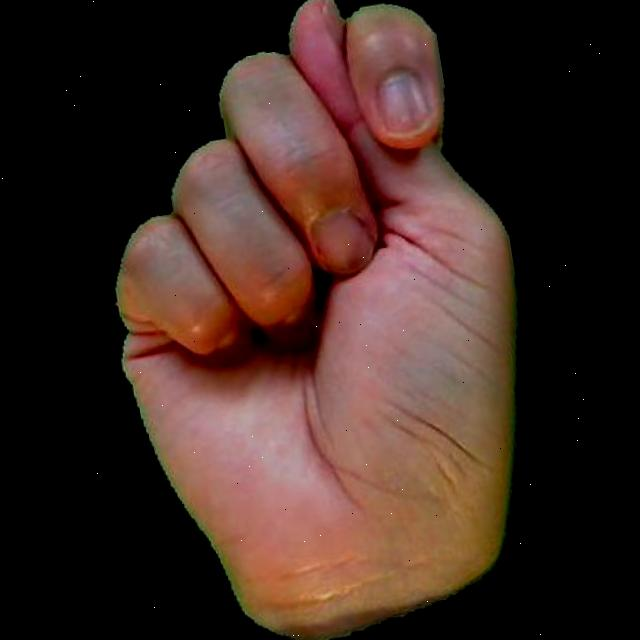t: (52, 0, 583, 640)
